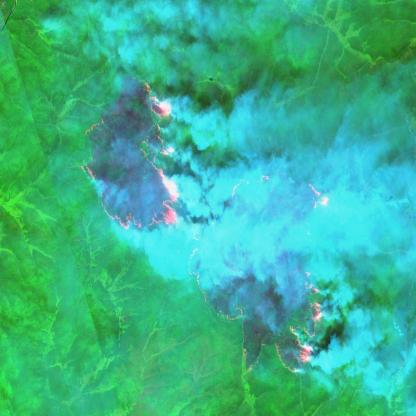fire: (187, 166, 335, 359), (79, 76, 183, 238)
